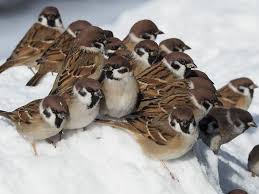hsparrow: (122, 107, 203, 168), (1, 5, 65, 78), (3, 92, 70, 154), (51, 26, 108, 98), (97, 56, 144, 123), (57, 78, 105, 143), (201, 106, 258, 150), (148, 89, 219, 120), (137, 51, 199, 84), (215, 72, 259, 115), (117, 17, 165, 52), (109, 39, 161, 67), (153, 35, 197, 65)
